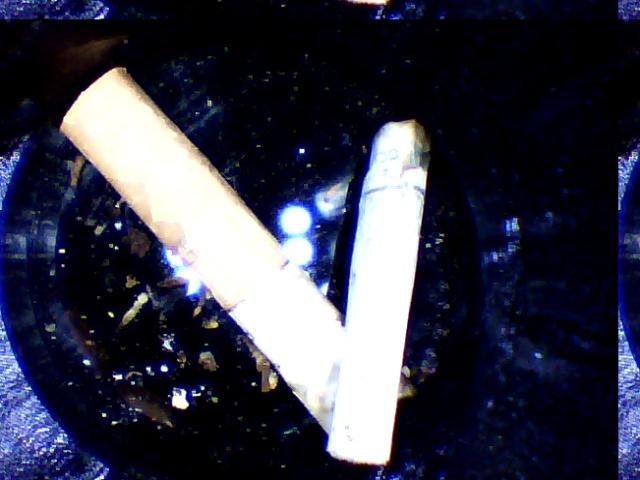megot: (57, 61, 393, 456), (325, 111, 437, 467)
